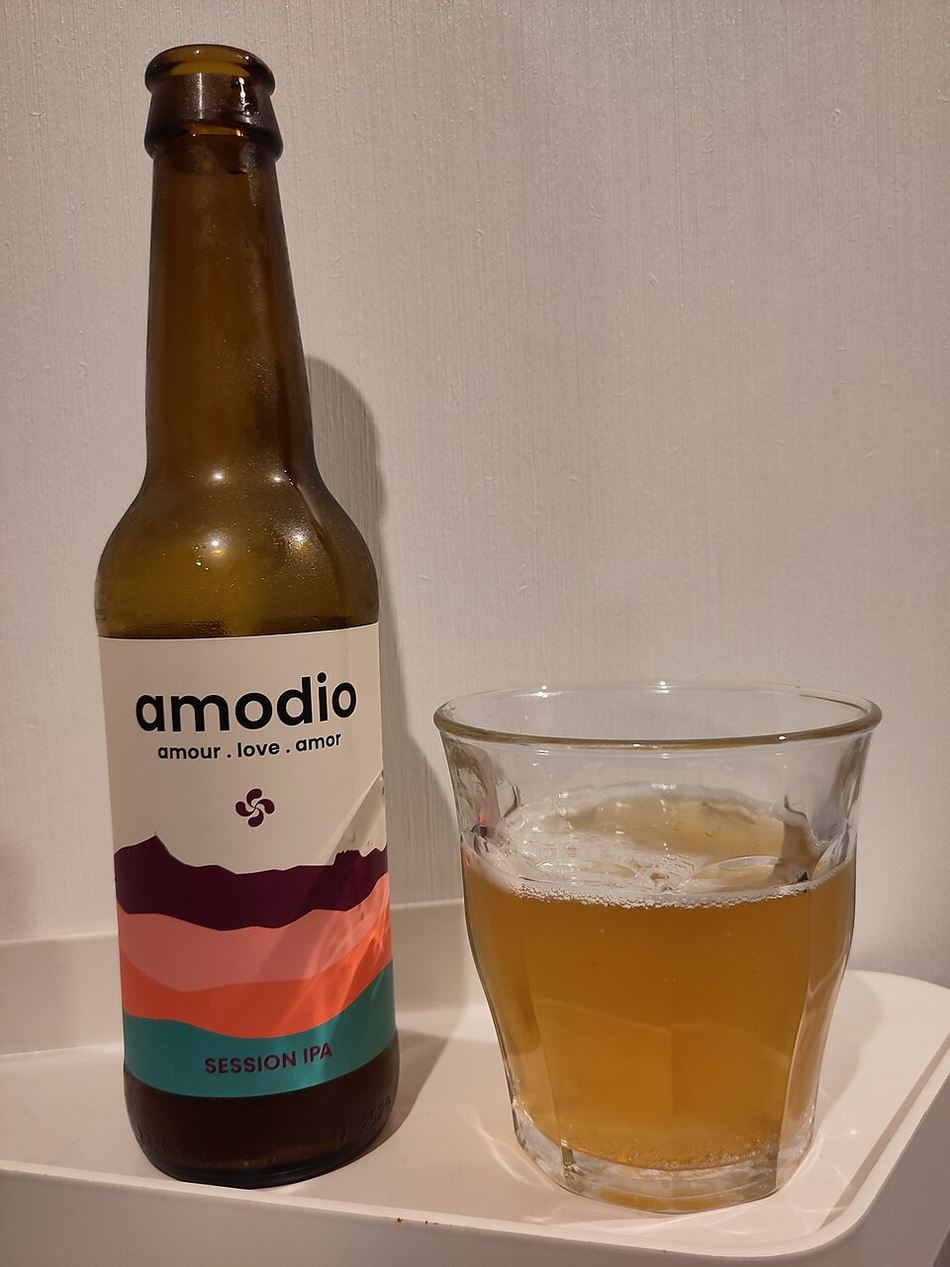beer-bottle: (86, 32, 393, 1198)
